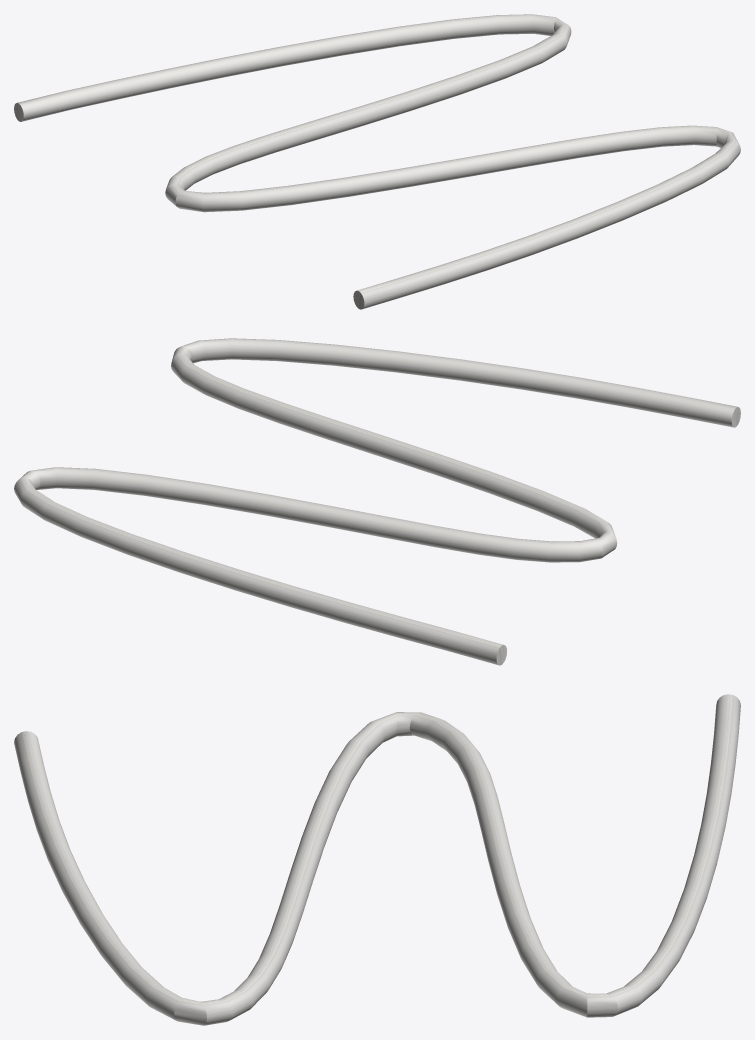
File: squeeze.fbx
The picture shows the model from 3 angles, top to bottom: view 1: azimuth 30°, elevation 25°; view 2: azimuth 150°, elevation 25°; view 3: azimuth 270°, elevation 25°; orthographic projection. The views are drawn at different scales.
Parts seen in each view (by area): view 1: Squeeze; view 2: Squeeze; view 3: Squeeze.
Part boxes in pixels (<box>): Squeeze: <box>14,14,740,309</box>; Squeeze: <box>14,338,740,665</box>; Squeeze: <box>14,694,740,1025</box>.
Size of the model in its own units: 0.7693 by 0.027 by 0.7533.
1 material, 1 textured.
